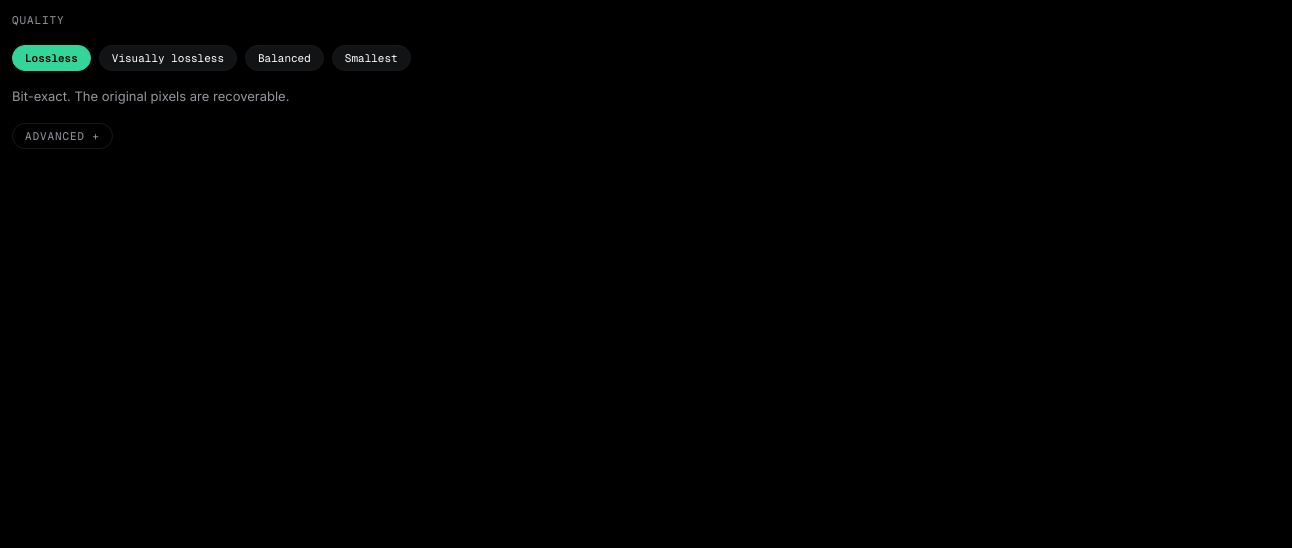
Scenario: OptionsPanel › hides advanced controls until disclosed
Check: the field labelled "SNS strength" is not shown
Click the button "ADVANCED +" at x=62, y=136, box x1=12 y1=122 x2=113 y2=149
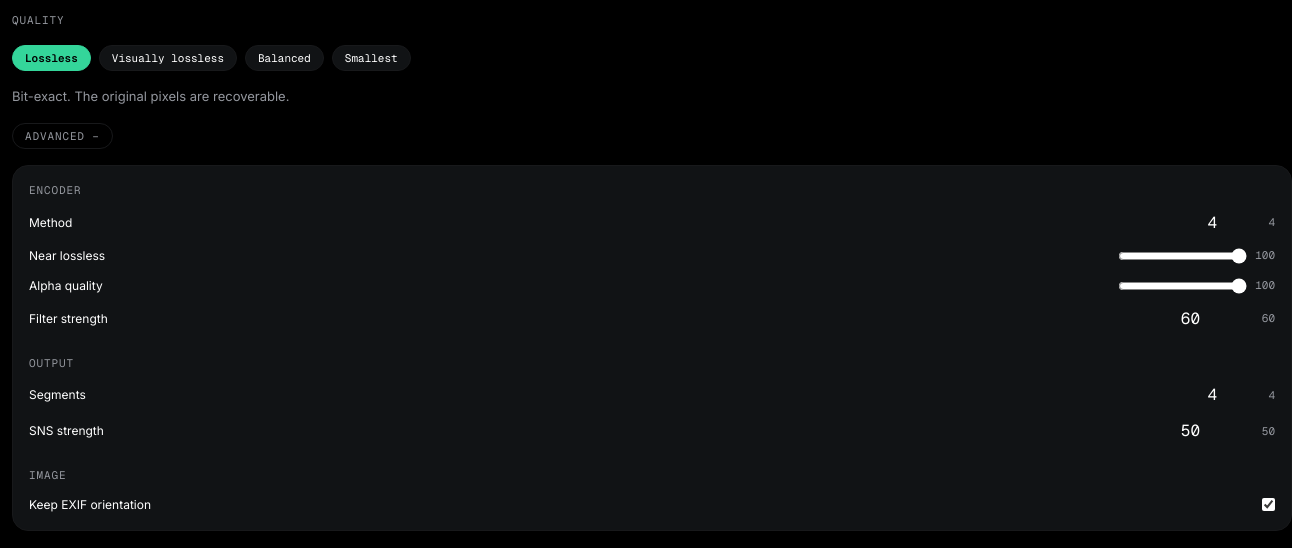
Check: the number field labelled "SNS strength" is shown, box x1=1181 y1=419 x2=1254 y2=443
